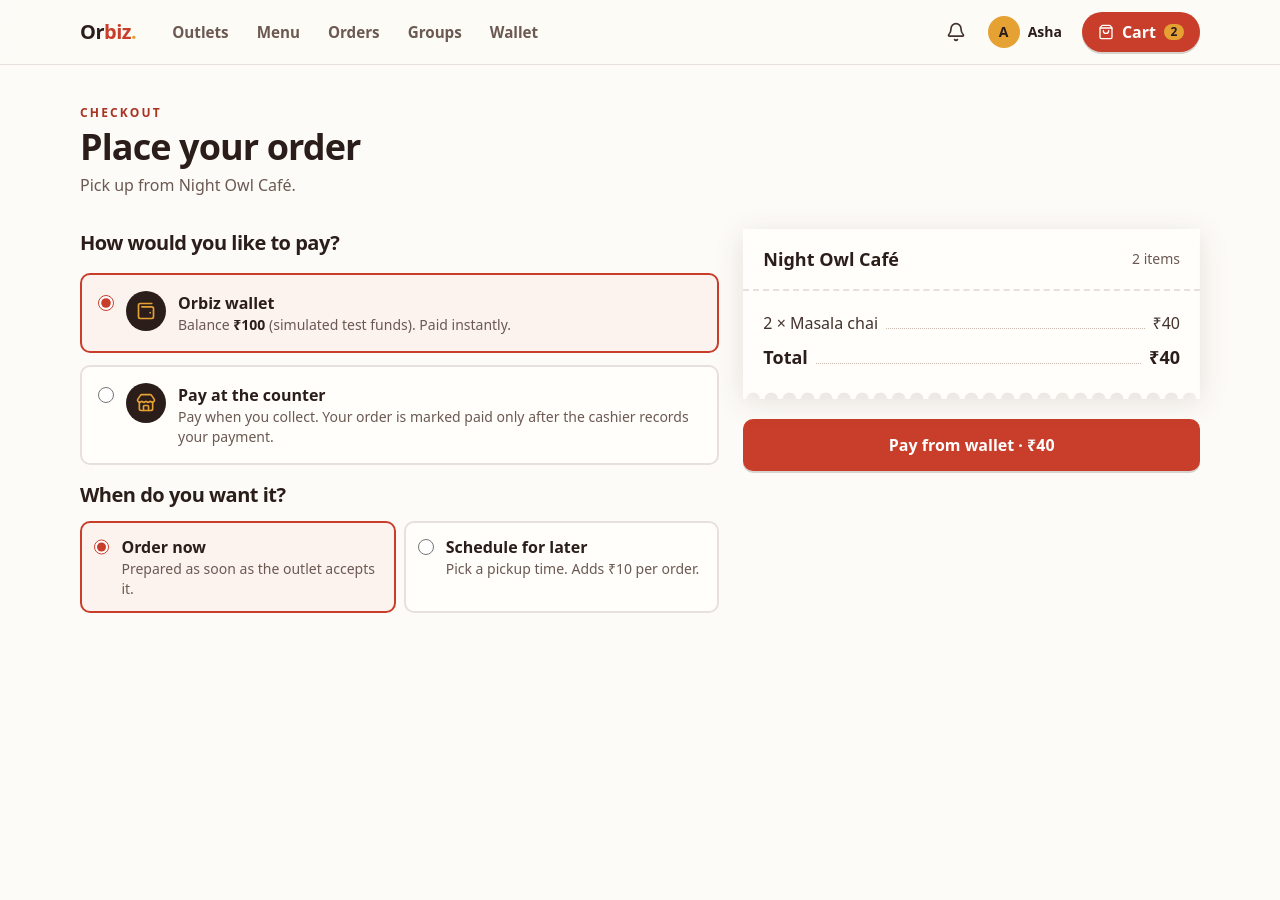
Test: <CheckoutPage /> › explains a price change instead of silently charging a different amount
The image size is (1280, 900).
Click the button "Pay from wallet · ₹40". click: coordinates (972, 445)
box: [743,419,1200,471]
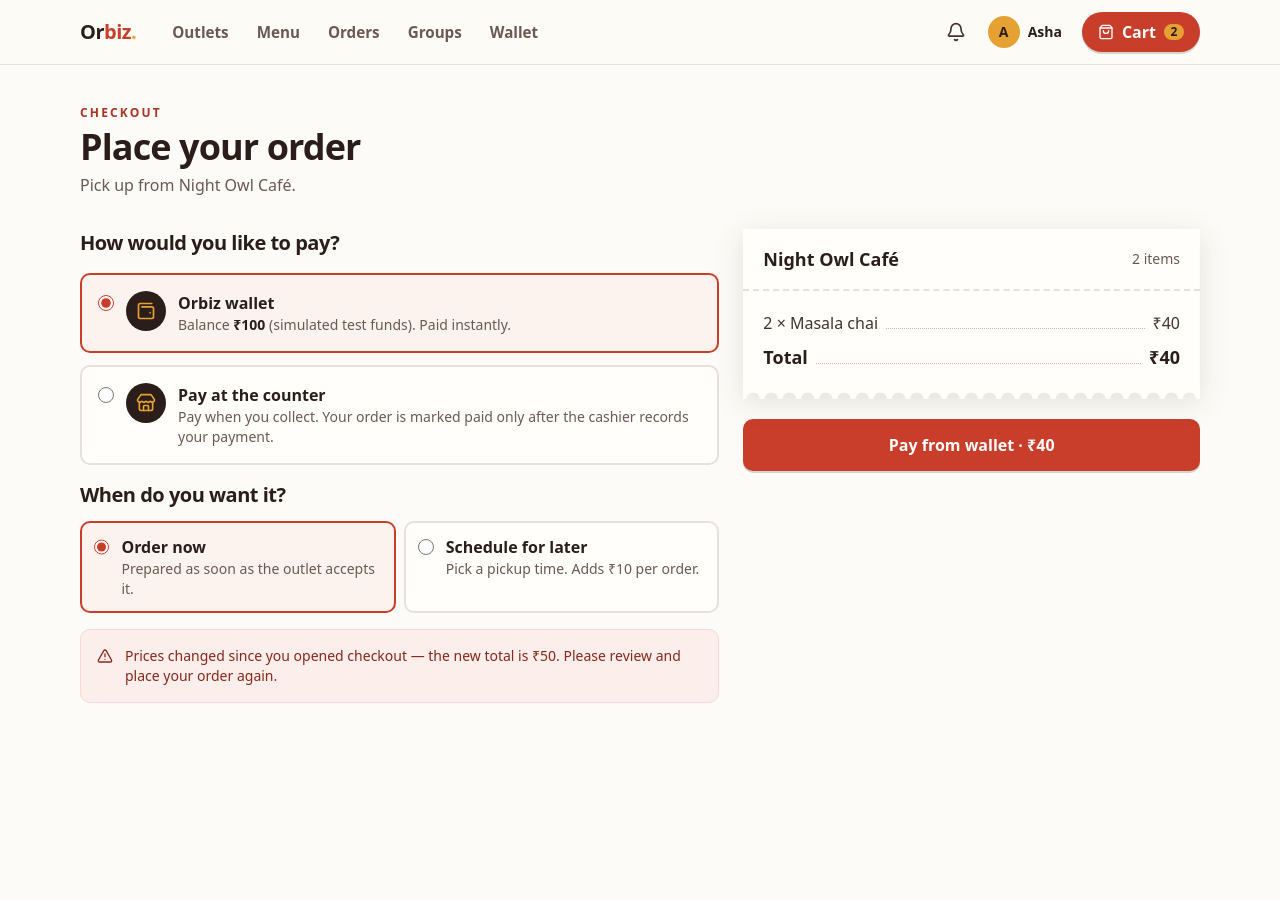
Result: the message shows "the new total is ₹50" at [125,646,681,685]
